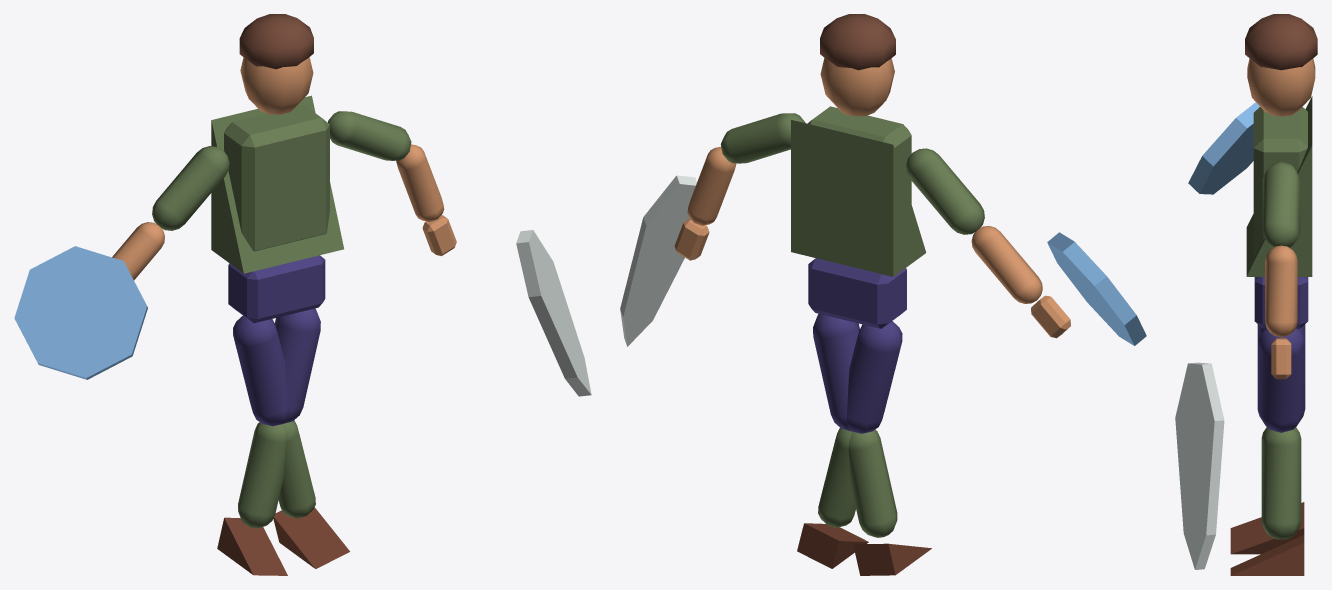
Rendered from adventurer.rustic.glb.
3 views of the same model, side by side, from view 1: azimuth 30°, elevation 25°; view 2: azimuth 150°, elevation 25°; view 3: azimuth 270°, elevation 25° (orthographic).
Visible parts, largest first — view 1: accessory.off-hand, torso, tunic, accessory.main-hand, pelvis, thigh.left, shin.right, upper-arm.left, hair, thigh.right, head, upper-arm.right (+6 smaller); view 2: tunic, accessory.main-hand, pelvis, thigh.left, shin.right, accessory.off-hand, upper-arm.left, hair, thigh.right, head, forearm.left, upper-arm.right (+7 smaller); view 3: accessory.main-hand, shin.left, thigh.right, torso, hair, accessory.off-hand, upper-arm.right, tunic, head, forearm.right, foot.left, foot.right (+2 smaller).
Boxes of the visible parts, x1=… form: accessory.off-hand: x1=14, y1=246, x2=147, y2=379; torso: x1=224, y1=104, x2=329, y2=251; tunic: x1=211, y1=95, x2=343, y2=273; accessory.main-hand: x1=516, y1=230, x2=591, y2=396; pelvis: x1=228, y1=255, x2=325, y2=323; thigh.left: x1=233, y1=315, x2=287, y2=426; shin.right: x1=238, y1=422, x2=285, y2=528; upper-arm.left: x1=152, y1=146, x2=229, y2=230; hair: x1=239, y1=14, x2=313, y2=69; thigh.right: x1=274, y1=308, x2=320, y2=423; head: x1=240, y1=57, x2=313, y2=114; upper-arm.right: x1=328, y1=111, x2=411, y2=160; tunic: x1=791, y1=120, x2=926, y2=276; accessory.main-hand: x1=620, y1=175, x2=696, y2=346; pelvis: x1=808, y1=258, x2=906, y2=328; thigh.left: x1=846, y1=321, x2=902, y2=433; shin.right: x1=848, y1=429, x2=897, y2=537; accessory.off-hand: x1=1047, y1=232, x2=1146, y2=345; upper-arm.left: x1=906, y1=148, x2=984, y2=234; hair: x1=820, y1=14, x2=895, y2=70; thigh.right: x1=813, y1=314, x2=859, y2=431; head: x1=820, y1=58, x2=894, y2=116; forearm.left: x1=971, y1=226, x2=1042, y2=303; upper-arm.right: x1=720, y1=113, x2=805, y2=163; accessory.main-hand: x1=1175, y1=362, x2=1224, y2=569; shin.left: x1=1261, y1=428, x2=1301, y2=539; thigh.right: x1=1257, y1=328, x2=1305, y2=432; torso: x1=1253, y1=107, x2=1307, y2=253; hair: x1=1245, y1=14, x2=1317, y2=70; accessory.off-hand: x1=1188, y1=102, x2=1259, y2=194; upper-arm.right: x1=1262, y1=162, x2=1300, y2=247; tunic: x1=1246, y1=96, x2=1312, y2=276; head: x1=1247, y1=58, x2=1315, y2=116; forearm.right: x1=1265, y1=245, x2=1297, y2=337; foot.left: x1=1230, y1=535, x2=1304, y2=575; foot.right: x1=1230, y1=502, x2=1304, y2=554.
Size of the model in its own units: 3.18 by 3.01 by 0.7164.
